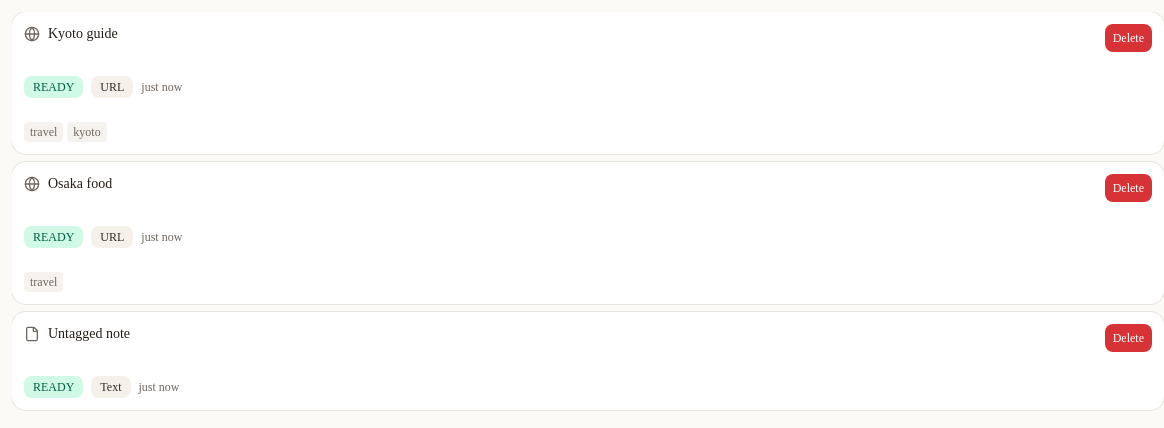
it: LibraryList tag filtering › removes a tag via its × and Clear resets the filter
Click the button "kyoto".
click(87, 132)  # box [67,122,107,142]
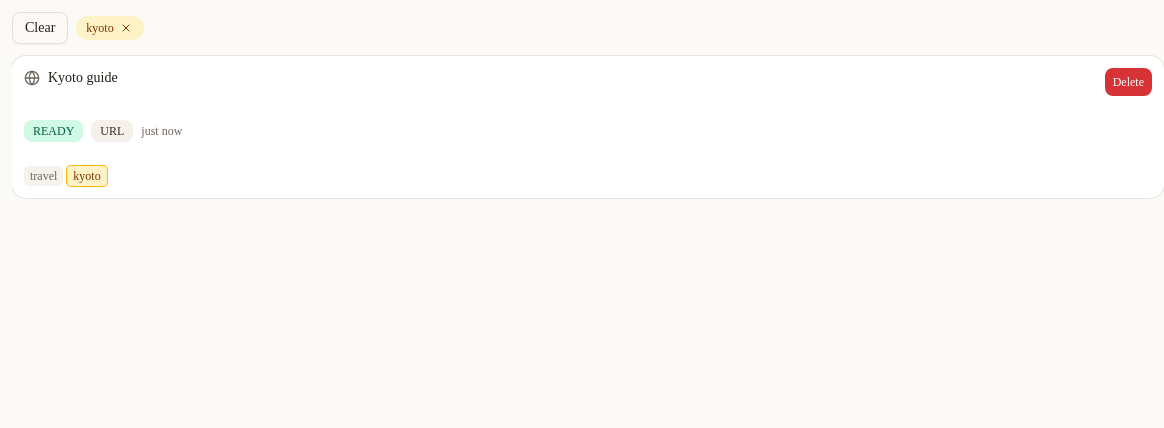
Click the button named "Remove kyoto".
click(126, 28)  # box [118,20,134,36]
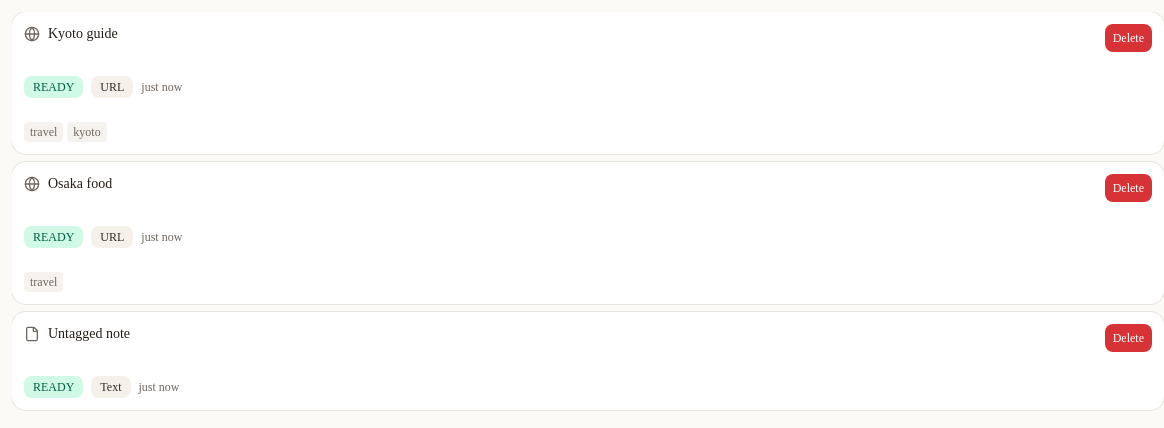
Now the text "Untagged note" is shown, box [48,324,130,344]
